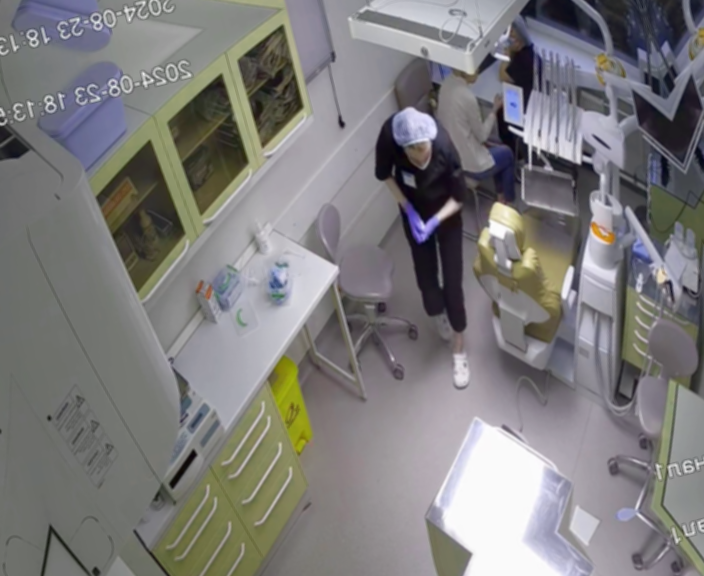Empty: (459, 187, 597, 382)
